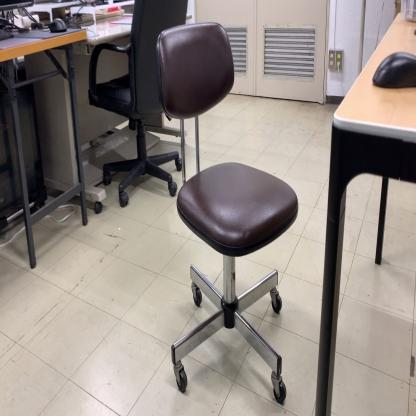chair: (156, 18, 300, 406), (86, 0, 189, 211)
